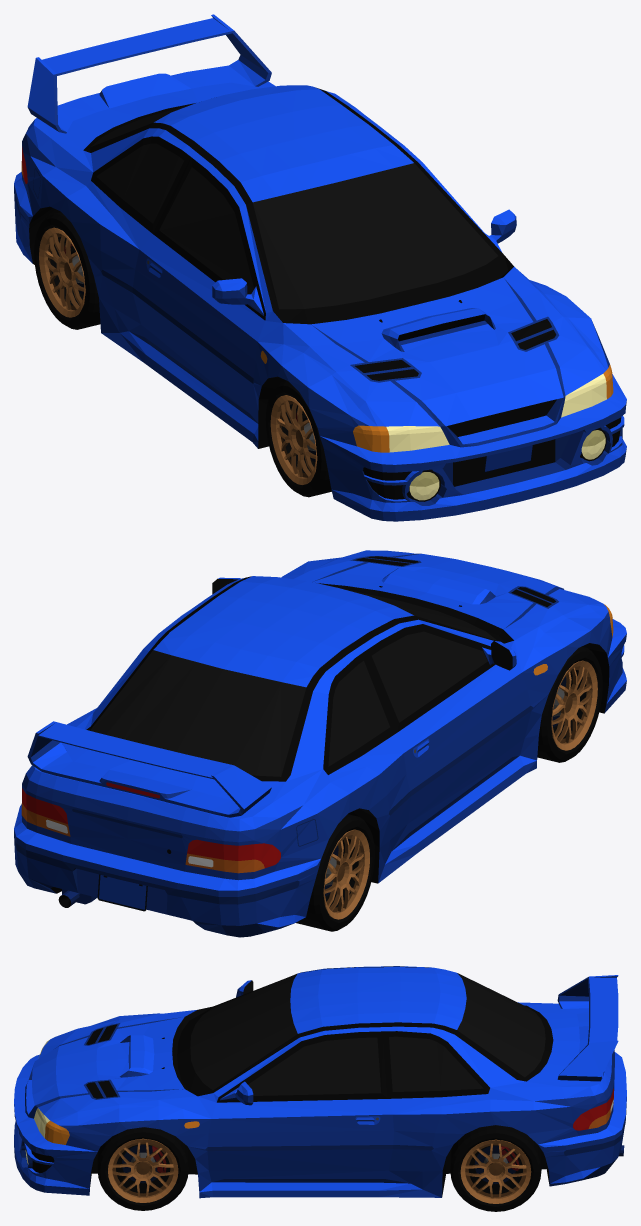
Rendered from subaru.obj.
The picture shows the model from 3 angles, top to bottom: view 1: azimuth 30°, elevation 25°; view 2: azimuth 150°, elevation 25°; view 3: azimuth 270°, elevation 25°; orthographic projection. The views are drawn at different scales.
Visible parts, largest first — view 1: RR22B_Body_Plane.021, RR22B_Wheel_Plane.001, RR22B_Misc_Cube.003; view 2: RR22B_Body_Plane.021, RR22B_Wheel_Plane.001, RR22B_Misc_Cube.003; view 3: RR22B_Body_Plane.021, RR22B_Wheel_Plane.001.
Part boxes in pixels (x1,y1,x2,y2): RR22B_Body_Plane.021: (14, 14, 626, 521); RR22B_Wheel_Plane.001: (34, 212, 331, 497); RR22B_Misc_Cube.003: (483, 445, 533, 473); RR22B_Body_Plane.021: (14, 550, 626, 937); RR22B_Wheel_Plane.001: (296, 646, 602, 931); RR22B_Misc_Cube.003: (97, 874, 147, 911); RR22B_Body_Plane.021: (14, 966, 626, 1198); RR22B_Wheel_Plane.001: (97, 1125, 541, 1211).
Bounding box in the file's own units: 1.88 × 1.31 × 4.32.
